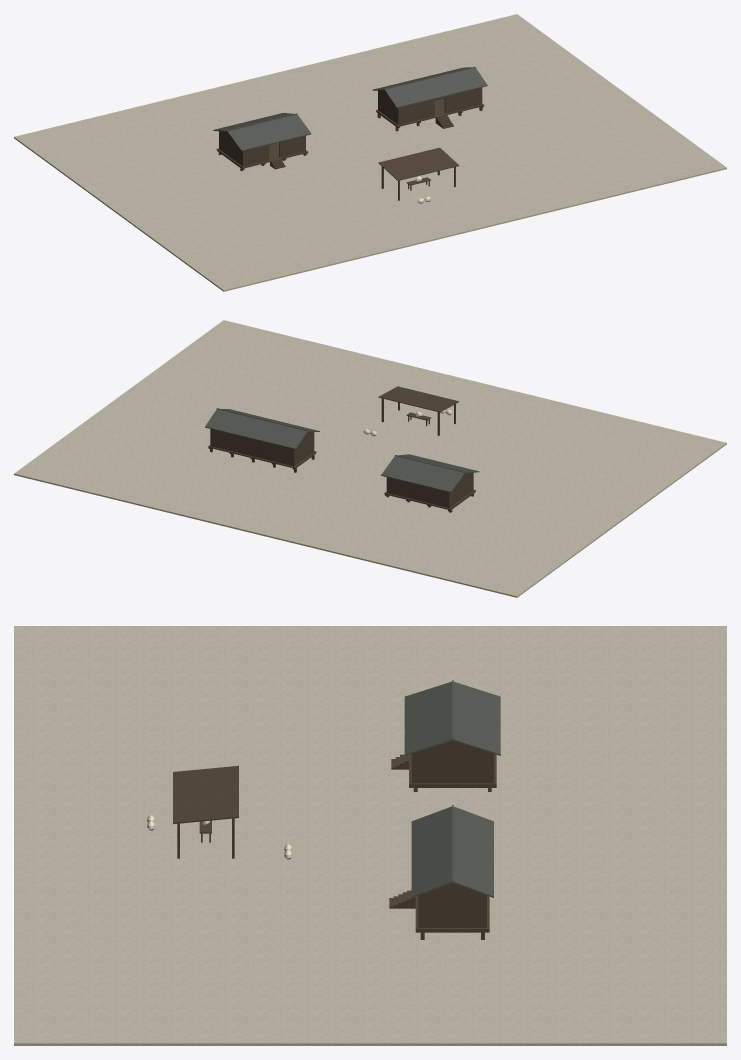
The model's file is granary-city-LOD1.glb.
3 renders of one model, top to bottom at view 1: azimuth 30°, elevation 25°; view 2: azimuth 150°, elevation 25°; view 3: azimuth 270°, elevation 25°, orthographic. The views are drawn at different scales.
Parts seen in each view (by area): view 1: original_city_ground_preserved, granary-group-static_timber, granary-group-static_tile; view 2: original_city_ground_preserved, granary-group-static_timber, granary-group-static_tile; view 3: original_city_ground_preserved, granary-group-static_tile, granary-group-static_timber.
Boxes of the visible parts, <box> form: original_city_ground_preserved: <box>14,14,726,291</box>; granary-group-static_timber: <box>216,87,484,200</box>; granary-group-static_tile: <box>213,66,487,151</box>; original_city_ground_preserved: <box>14,320,726,597</box>; granary-group-static_timber: <box>208,386,475,512</box>; granary-group-static_tile: <box>205,408,479,492</box>; original_city_ground_preserved: <box>14,626,726,1045</box>; granary-group-static_tile: <box>404,680,500,897</box>; granary-group-static_timber: <box>173,741,496,939</box>.
Bounding box in the file's own units: 72 × 5.15 × 52.
4 materials, 3 textured.
